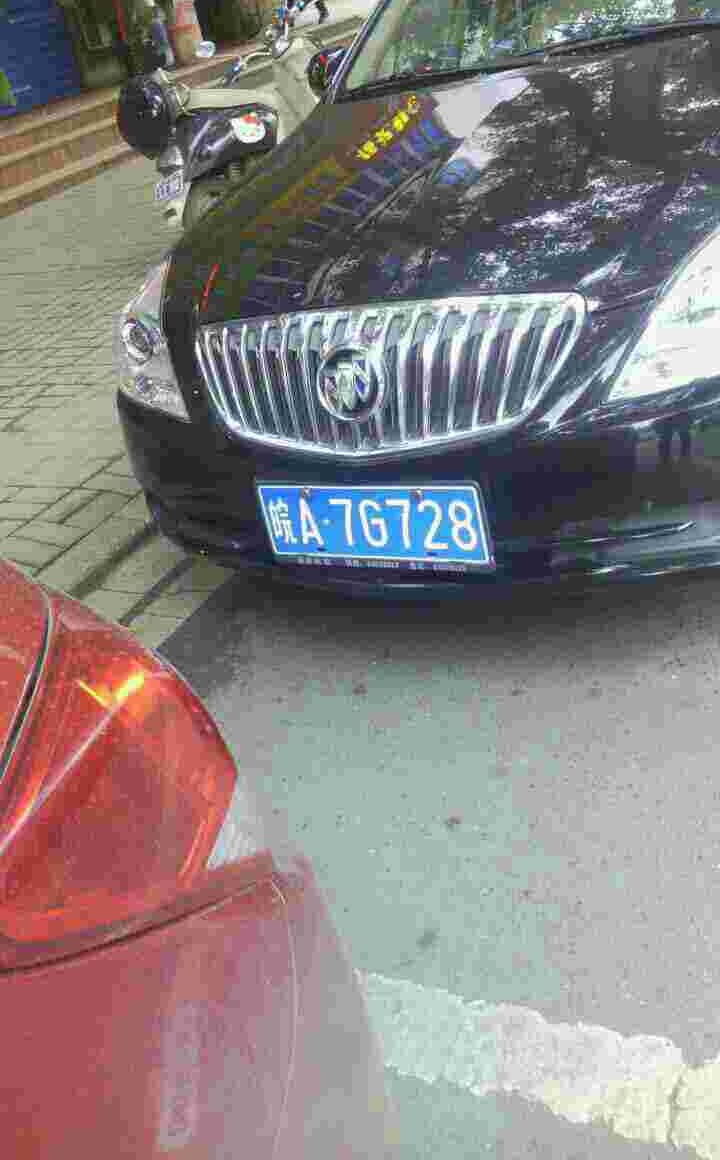license_plate: (246, 481, 486, 567)
